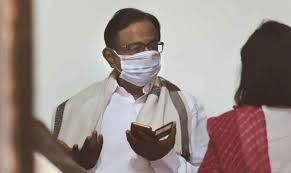mask: (99, 19, 164, 89)
